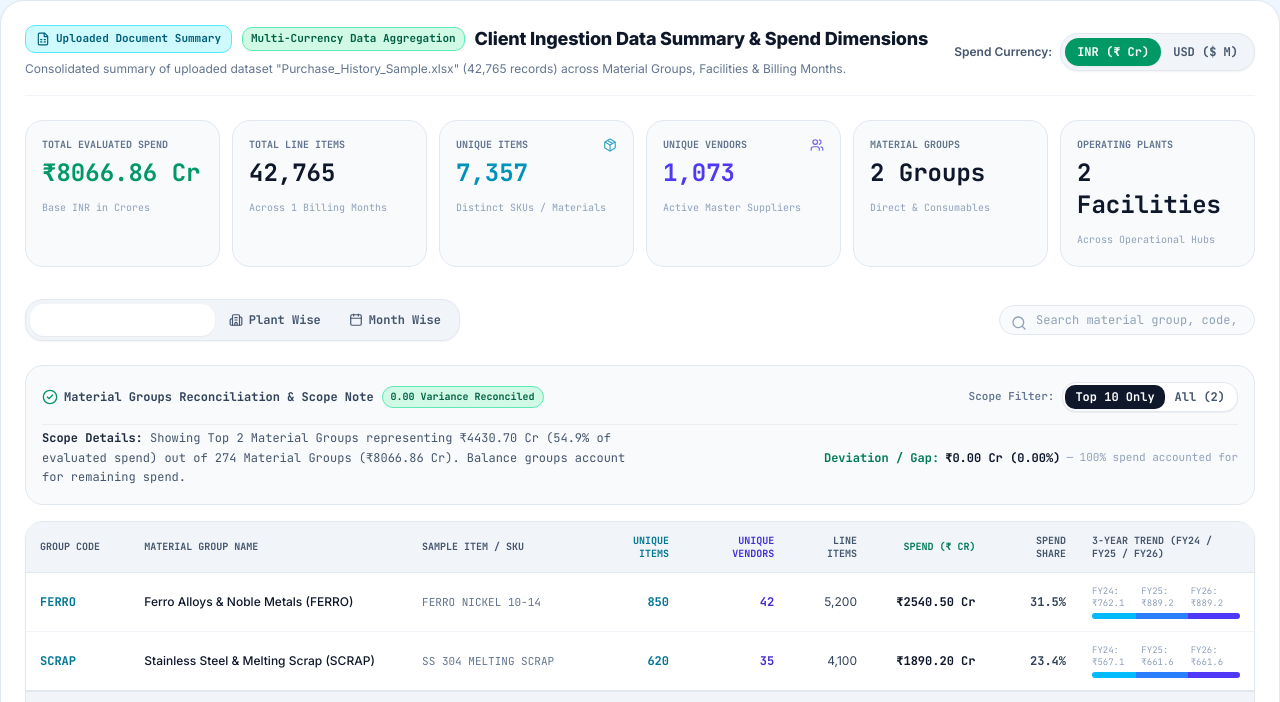
Test case: DocumentSummaryView Component › switches to Plant Wise Summary view and displays plant details with unique items and vendors
Click the button "Plant Wise". click: {"x": 275, "y": 320}
box: x1=215 y1=304 x2=335 y2=336
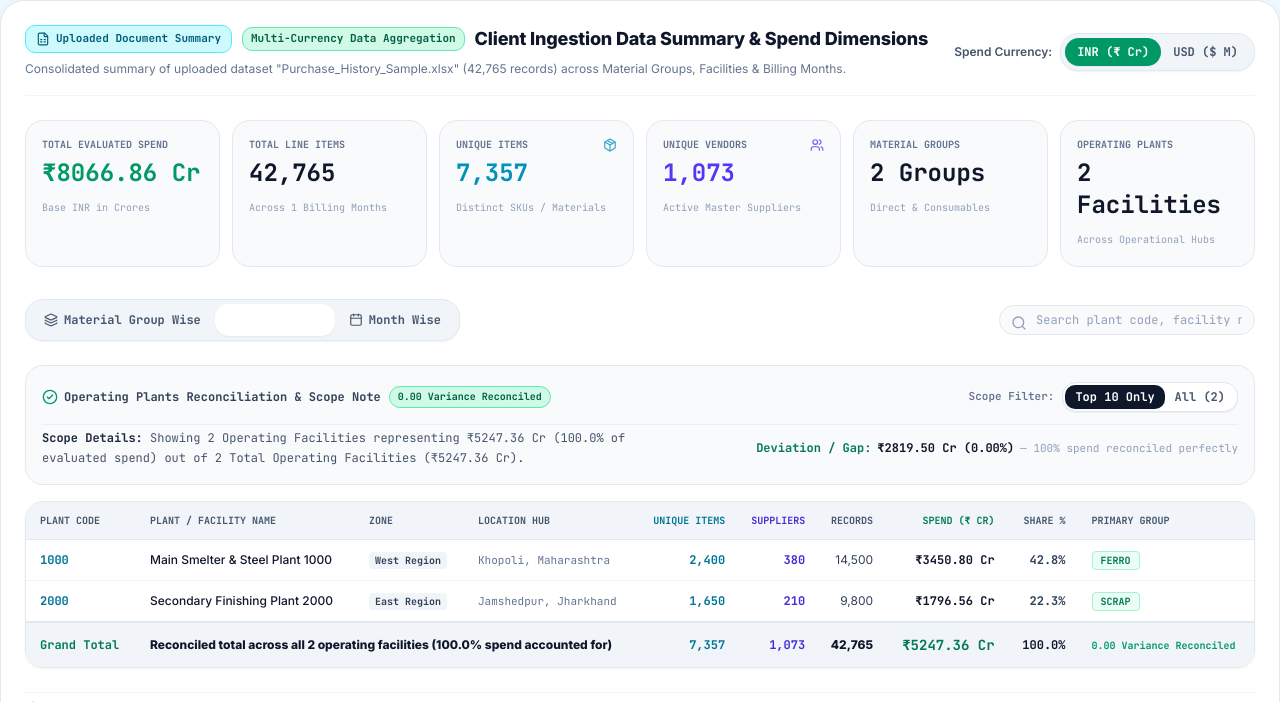
Expected: the column heading "Plant / Facility Name" is shown, x1=136 y1=502 x2=357 y2=540
Expected: the text "Main Smelter & Steel Plant 1000" is shown, x1=136 y1=540 x2=357 y2=581
Expected: the text "1000" is shown, x1=26 y1=540 x2=136 y2=581
# Switch back to Material Group tab to exercise line 247-249
Click the button "Material Group Wise". click: {"x": 122, "y": 320}
box: x1=30 y1=304 x2=215 y2=336
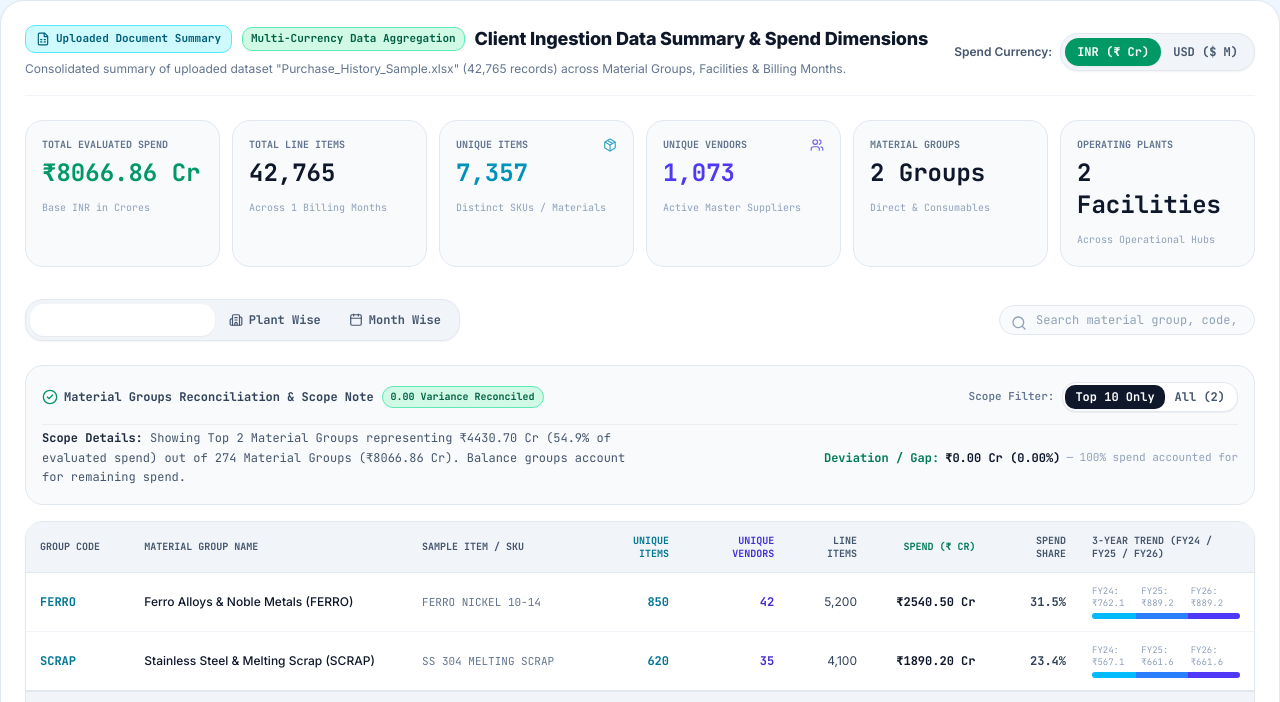
Expected: the text "Ferro Alloys & Noble Metals (FERRO)" is shown, x1=130 y1=573 x2=408 y2=632
